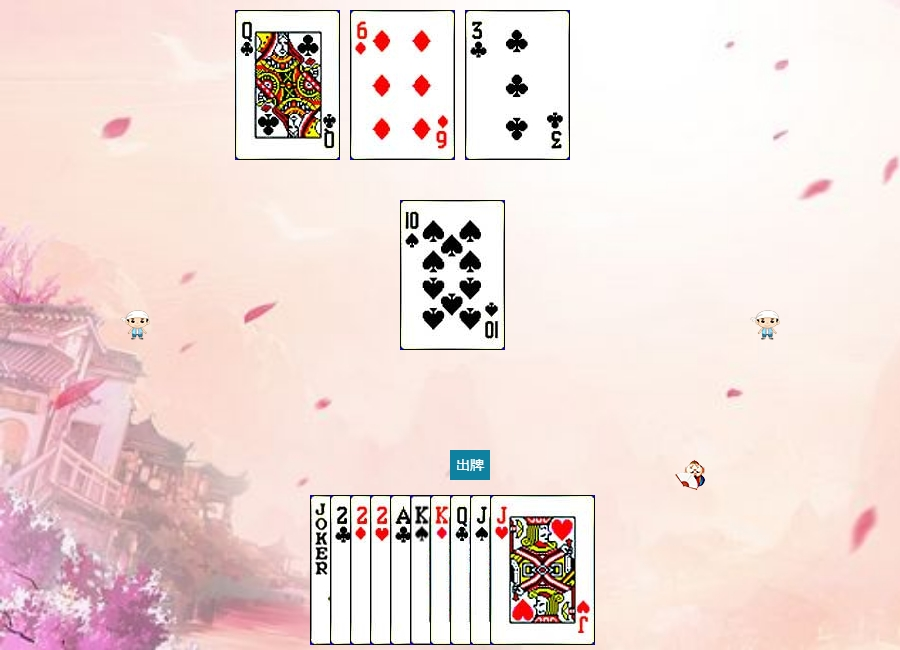10~4: (400, 200, 505, 350)
11~3: (490, 495, 595, 645)
11~4: (470, 495, 575, 645)
12~2: (235, 10, 340, 160), (450, 495, 555, 645)
13~1: (430, 495, 535, 645)
13~4: (410, 495, 515, 645)
14~2: (390, 495, 495, 645)
15~1: (350, 495, 455, 645)
15~2: (330, 495, 435, 645)
15~3: (370, 495, 475, 645)
17~3: (310, 495, 415, 645)
3~2: (465, 10, 570, 160)
6~1: (350, 10, 455, 160)
